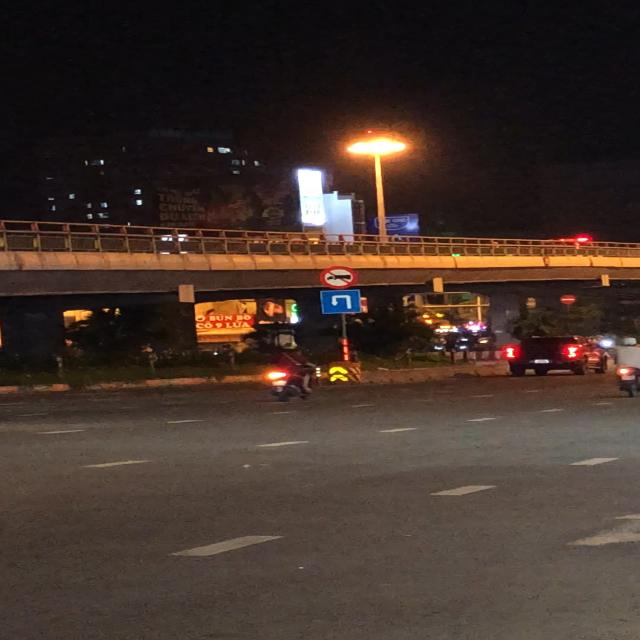Bien bao cam xe so-mi ro-mooc: (319, 266, 361, 291)
